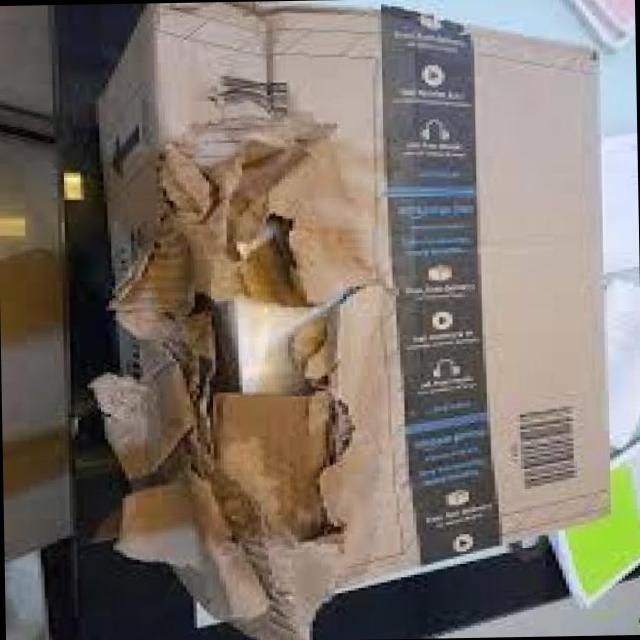tear: (96, 142, 373, 556)
